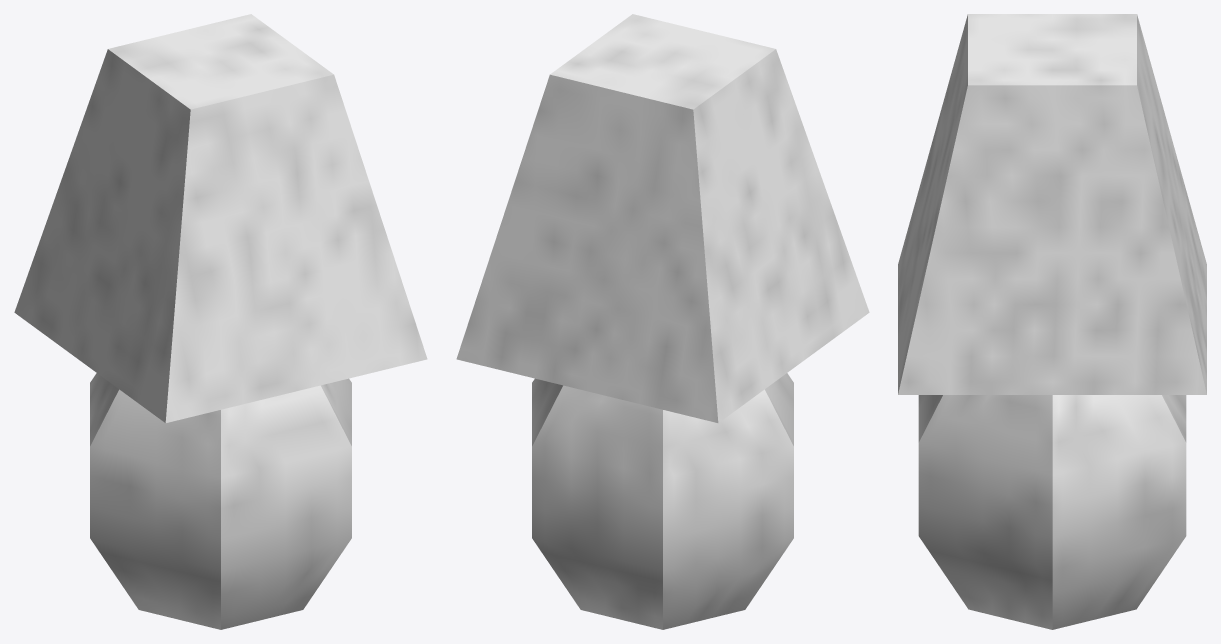
Rendered from Lamp.fbx.
3 views of the same model, side by side, from view 1: azimuth 30°, elevation 25°; view 2: azimuth 150°, elevation 25°; view 3: azimuth 270°, elevation 25° (orthographic). The views are drawn at different scales.
Parts seen in each view (by area): view 1: Lamp2; view 2: Lamp2; view 3: Lamp2.
Part boxes in pixels (<box>): Lamp2: <box>14,14,427,629</box>; Lamp2: <box>456,14,869,629</box>; Lamp2: <box>898,14,1206,629</box>.
Bounding box in the file's own units: 0.5 × 0.963 × 0.5.
